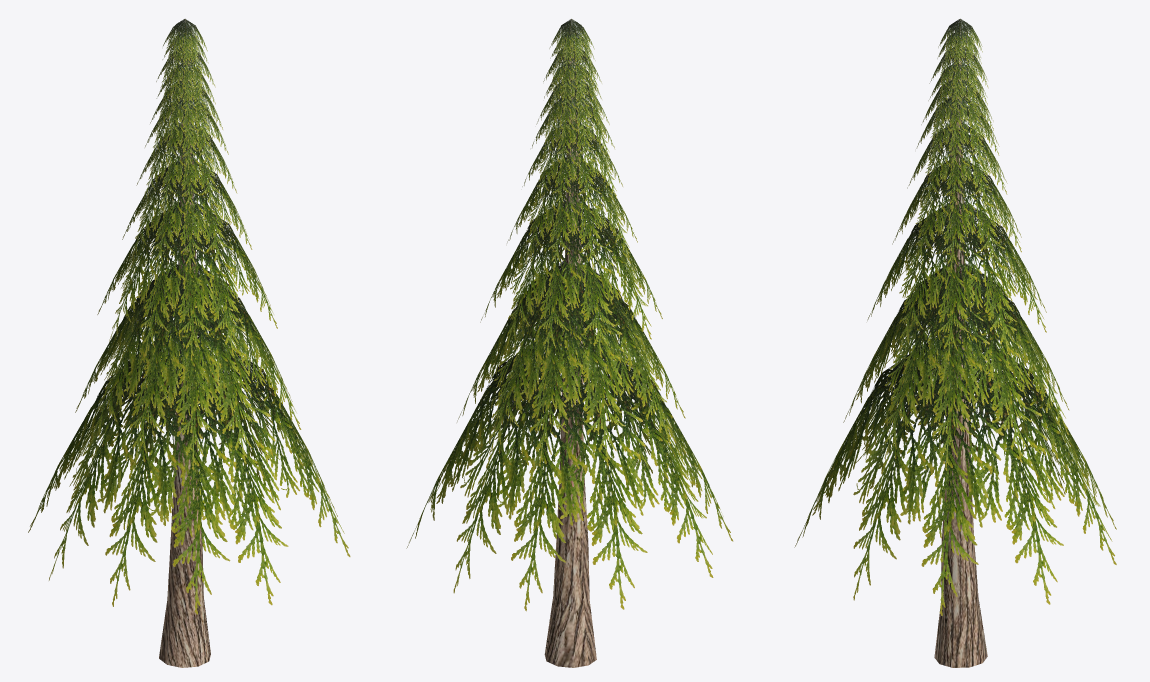
Rendered from Tree2.fbx.
3 renders of one model, left to right at view 1: azimuth 30°, elevation 25°; view 2: azimuth 150°, elevation 25°; view 3: azimuth 270°, elevation 25°, orthographic.
Visible parts, largest first — view 1: Plane1060, Plane1052, Cylinder035, Plane1059, Plane1051, Plane1055, Plane1050, Plane1049, Plane1042, Plane1030, Plane1022, Plane1029 (+27 smaller); view 2: Cylinder035, Plane1058, Plane1057, Plane1056, Plane1051, Plane1048, Plane1047, Plane1046, Plane1028, Plane1053, Plane1041, Plane1027 (+26 smaller); view 3: Plane1054, Cylinder035, Plane1053, Plane1055, Plane1056, Plane1044, Plane1043, Plane1045, Plane1024, Plane1052, Plane1023, Plane1025 (+23 smaller).
Part boxes in pixels (x1,y1,x2,y2): Plane1060: (146,338,243,614); Plane1052: (187,338,288,605); Cylinder035: (159,49,210,667); Plane1059: (97,335,203,606); Plane1051: (49,332,175,580); Plane1055: (197,331,350,556); Plane1050: (158,280,225,470); Plane1049: (123,277,197,464); Plane1042: (192,297,257,463); Plane1030: (164,207,214,360); Plane1022: (187,207,243,355); Plane1029: (136,205,195,356); Cylinder035: (544,26,596,667); Plane1058: (554,332,648,609); Plane1057: (496,328,603,611); Plane1056: (453,328,566,593); Plane1051: (580,340,713,577); Plane1048: (560,272,625,466); Plane1047: (519,271,594,467); Plane1046: (489,270,564,454); Plane1028: (562,205,615,357); Plane1053: (406,326,561,548); Plane1041: (580,275,671,443); Plane1027: (531,202,589,357); Plane1054: (900,333,1003,615); Cylinder035: (934,26,987,667); Plane1053: (957,331,1063,604); Plane1055: (853,334,968,600); Plane1056: (964,332,1116,564); Plane1044: (917,284,989,470); Plane1043: (958,273,1032,462); Plane1045: (884,282,960,459); Plane1024: (925,205,983,360); Plane1052: (794,335,944,547); Plane1023: (957,204,1017,354); Plane1025: (899,204,964,352).
Size of the model in its own units: 272 by 549 by 279.
2 materials, 2 textured.
